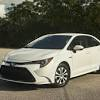Toyota: (1, 33, 97, 84)
